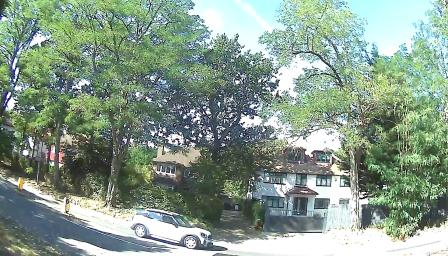Cars: (138, 208, 213, 252)
